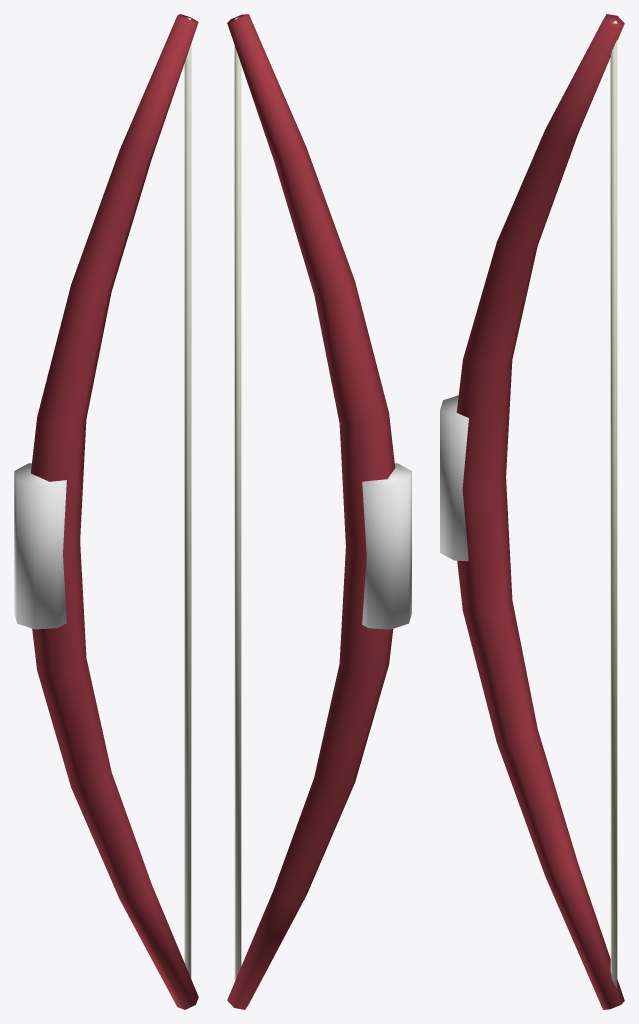
File: crimtane_bow.glb
3 renders of one model, left to right at view 1: azimuth 30°, elevation 25°; view 2: azimuth 150°, elevation 25°; view 3: azimuth 330°, elevation 25°, orthographic.
Parts seen in each view (by area): view 1: sanguite_bow_v0; view 2: sanguite_bow_v0; view 3: sanguite_bow_v0.
Part boxes in pixels (left/top/right/bottom): sanguite_bow_v0: left=14, top=14, right=198, bottom=1009; sanguite_bow_v0: left=227, top=14, right=411, bottom=1009; sanguite_bow_v0: left=440, top=14, right=624, bottom=1009.
Size of the model in its own units: 0.2105 by 1.11 by 0.06.
